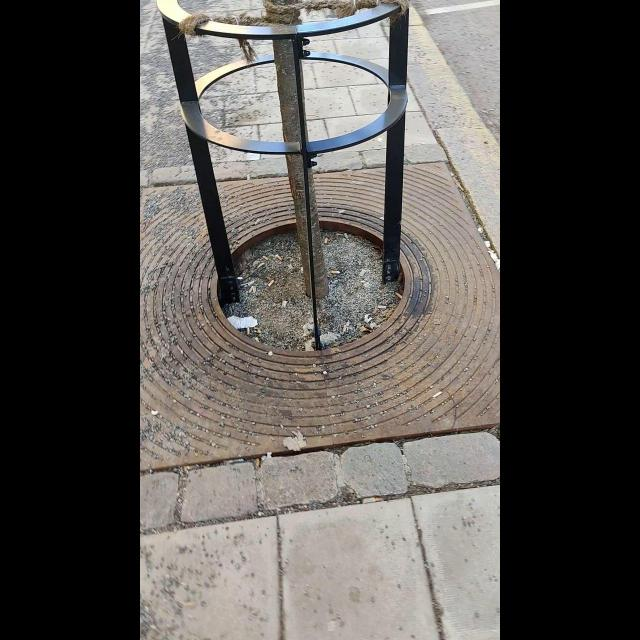cigarette: (395, 290, 403, 299), (432, 391, 442, 398), (373, 497, 383, 503), (332, 270, 342, 276), (248, 285, 253, 295), (323, 237, 329, 244), (275, 253, 281, 260), (261, 255, 268, 261), (268, 279, 273, 287), (342, 324, 347, 332), (246, 328, 250, 336), (254, 337, 260, 342), (246, 176, 251, 182)
